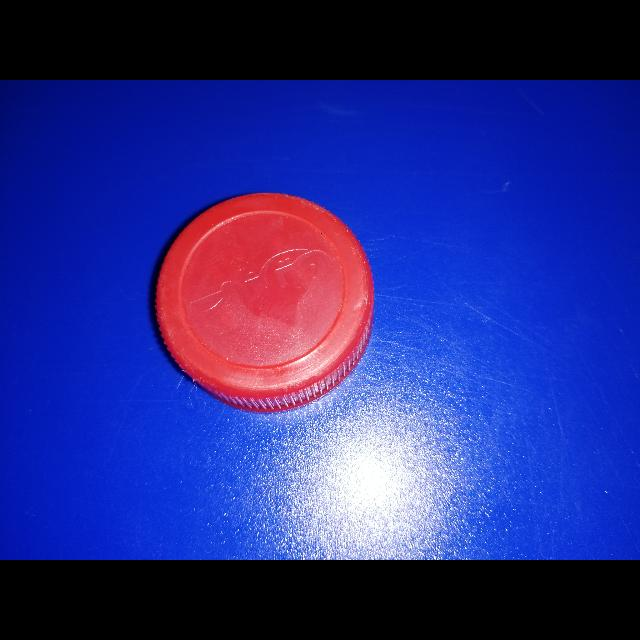plastic_bottle_cap: (154, 190, 376, 412)
